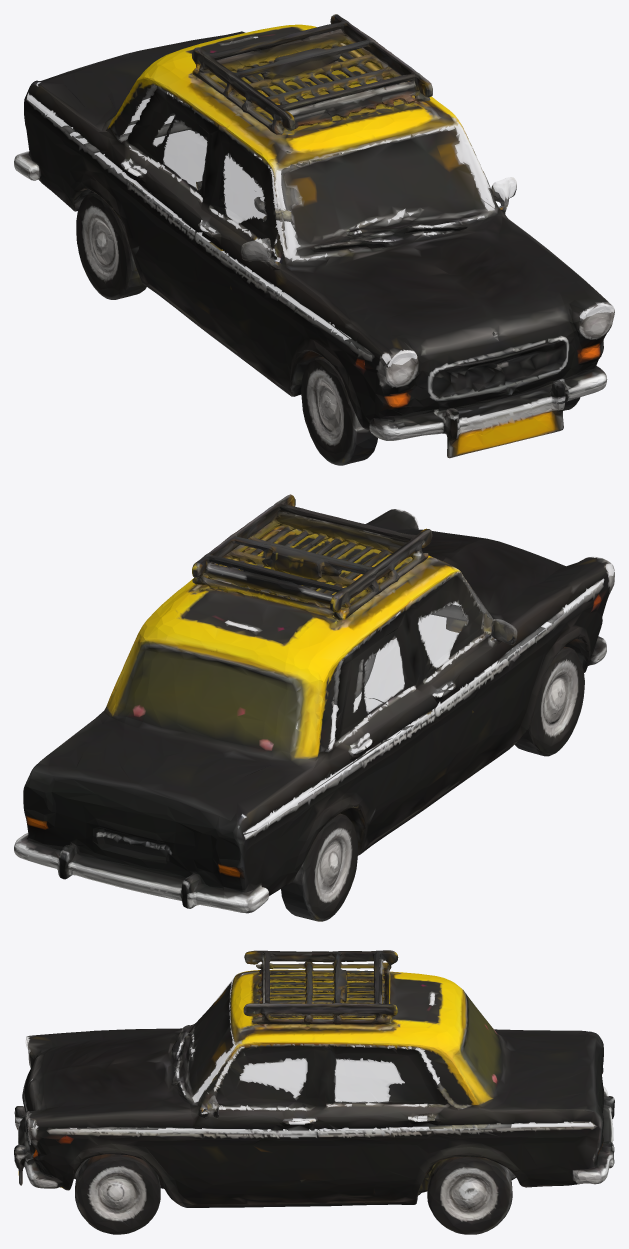
File: padmini.glb
3 renders of one model, top to bottom at view 1: azimuth 30°, elevation 25°; view 2: azimuth 150°, elevation 25°; view 3: azimuth 270°, elevation 25°, orthographic. The views are drawn at different scales.
Parts seen in each view (by area): view 1: paint, trim, glass, lamps; view 2: paint, trim, glass, lamps; view 3: paint, trim, glass, lamps.
Part boxes in pixels (<box>): paint: <box>24,14,609,451</box>; trim: <box>14,14,614,465</box>; glass: <box>27,36,613,367</box>; lamps: <box>108,50,599,454</box>; paint: <box>23,499,609,908</box>; trim: <box>14,494,614,921</box>; glass: <box>225,509,614,837</box>; lamps: <box>27,528,600,876</box>; paint: <box>14,950,614,1212</box>; trim: <box>14,950,614,1234</box>; glass: <box>26,974,594,1130</box>; lamps: <box>18,969,487,1175</box>.
Size of the model in its own units: 0.8264 by 0.7915 by 2.
